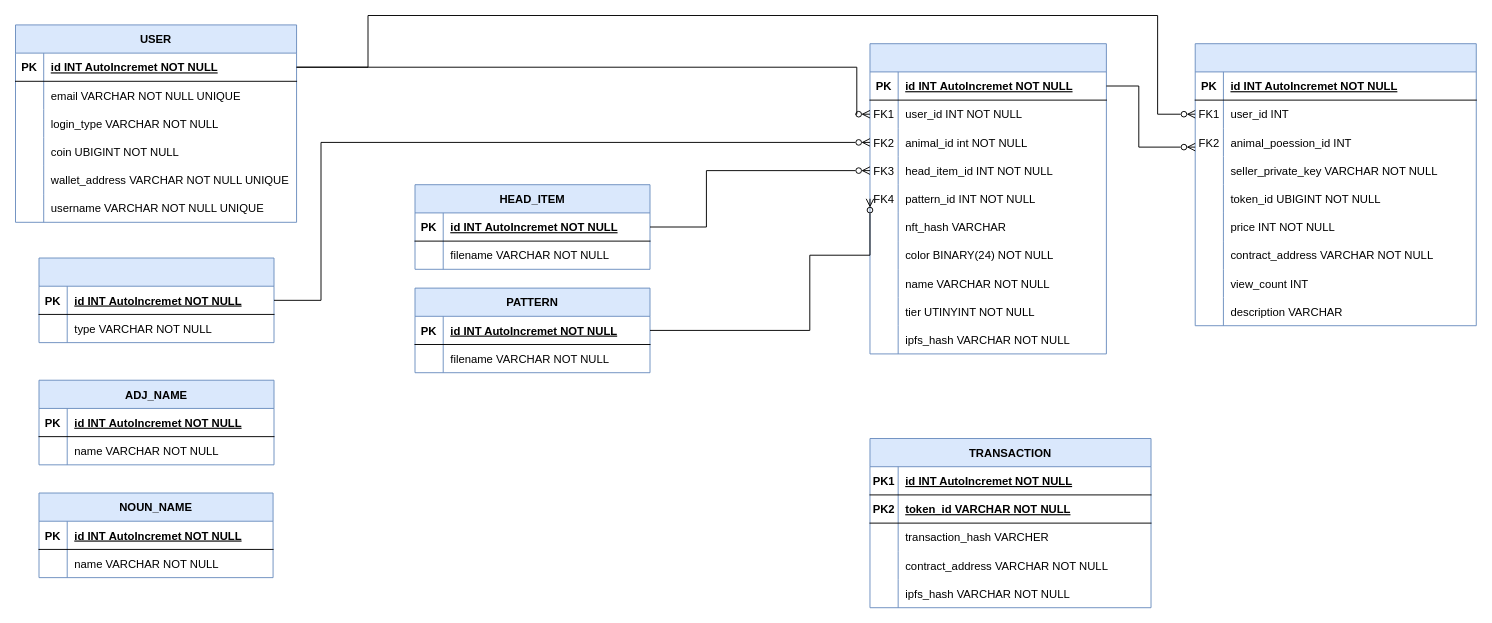
The diagram is 1492 pixels wide and 623 high, and some of its shapes have lost their labels. Here are the shapes that lost their labels. From the top down, the box of each, then its label:
(869, 43, 1106, 354): ANIMAL_POSSESSION
(1194, 43, 1476, 326): MARKET
(38, 257, 274, 343): ANIMAL
